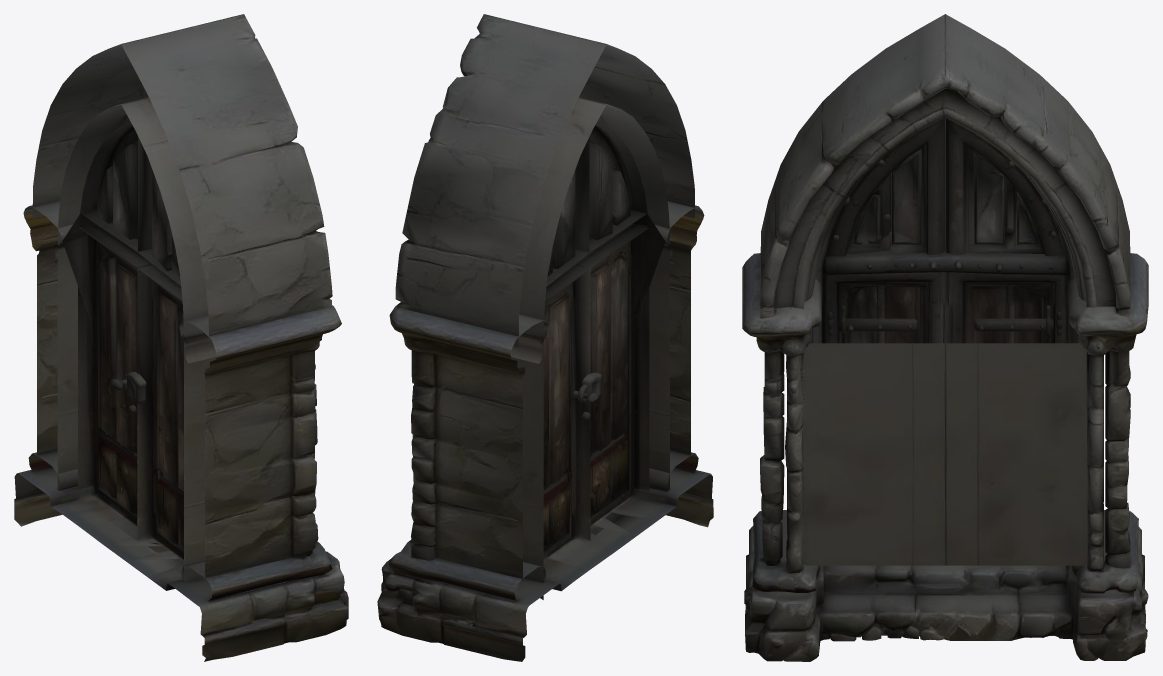
The model's file is doorway.glb.
3 renders of one model, left to right at view 1: azimuth 30°, elevation 25°; view 2: azimuth 150°, elevation 25°; view 3: azimuth 270°, elevation 25°, orthographic. The views are drawn at different scales.
Parts seen in each view (by area): view 1: tripo_node_9b891956-c7ce-4d14-93be-892011705def; view 2: tripo_node_9b891956-c7ce-4d14-93be-892011705def; view 3: tripo_node_9b891956-c7ce-4d14-93be-892011705def.
Boxes of the visible parts, box(x1,y1,x2,y2) form: tripo_node_9b891956-c7ce-4d14-93be-892011705def: box(14, 14, 348, 661); tripo_node_9b891956-c7ce-4d14-93be-892011705def: box(377, 14, 713, 661); tripo_node_9b891956-c7ce-4d14-93be-892011705def: box(742, 14, 1148, 661).
Bounding box in the file's own units: 0.2983 × 0.9995 × 0.6401.
Materials: 1 (1 with a texture image).
